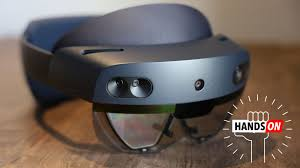hololens: (20, 5, 252, 157)
